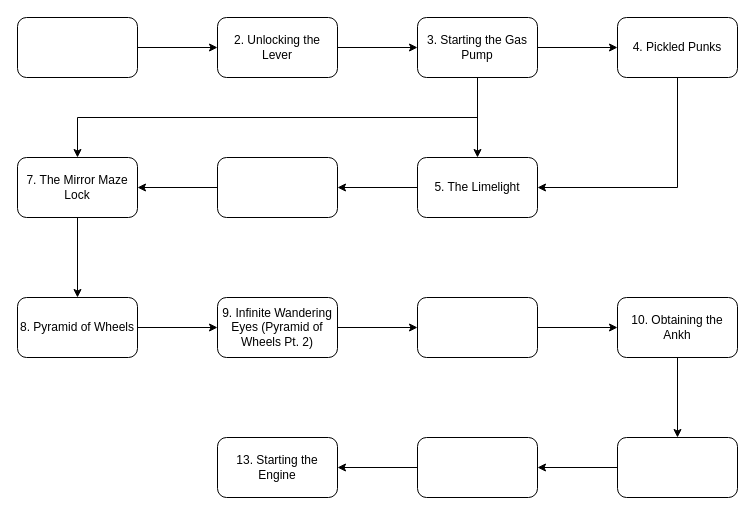
The diagram is 755 pixels wide and 515 high, and some of its shapes have lost their labels. Here are the shapes that lost their labels. From the top down, the centre of each, then its label:
the point at 77,47: 1. The First Gas Pump
the point at 277,187: 6. Wheel of Death
the point at 477,327: 9. Creating Magic Flame
the point at 477,467: 12. Unlocking the Engine Room
the point at 677,467: 11. Destroying the Ankh
